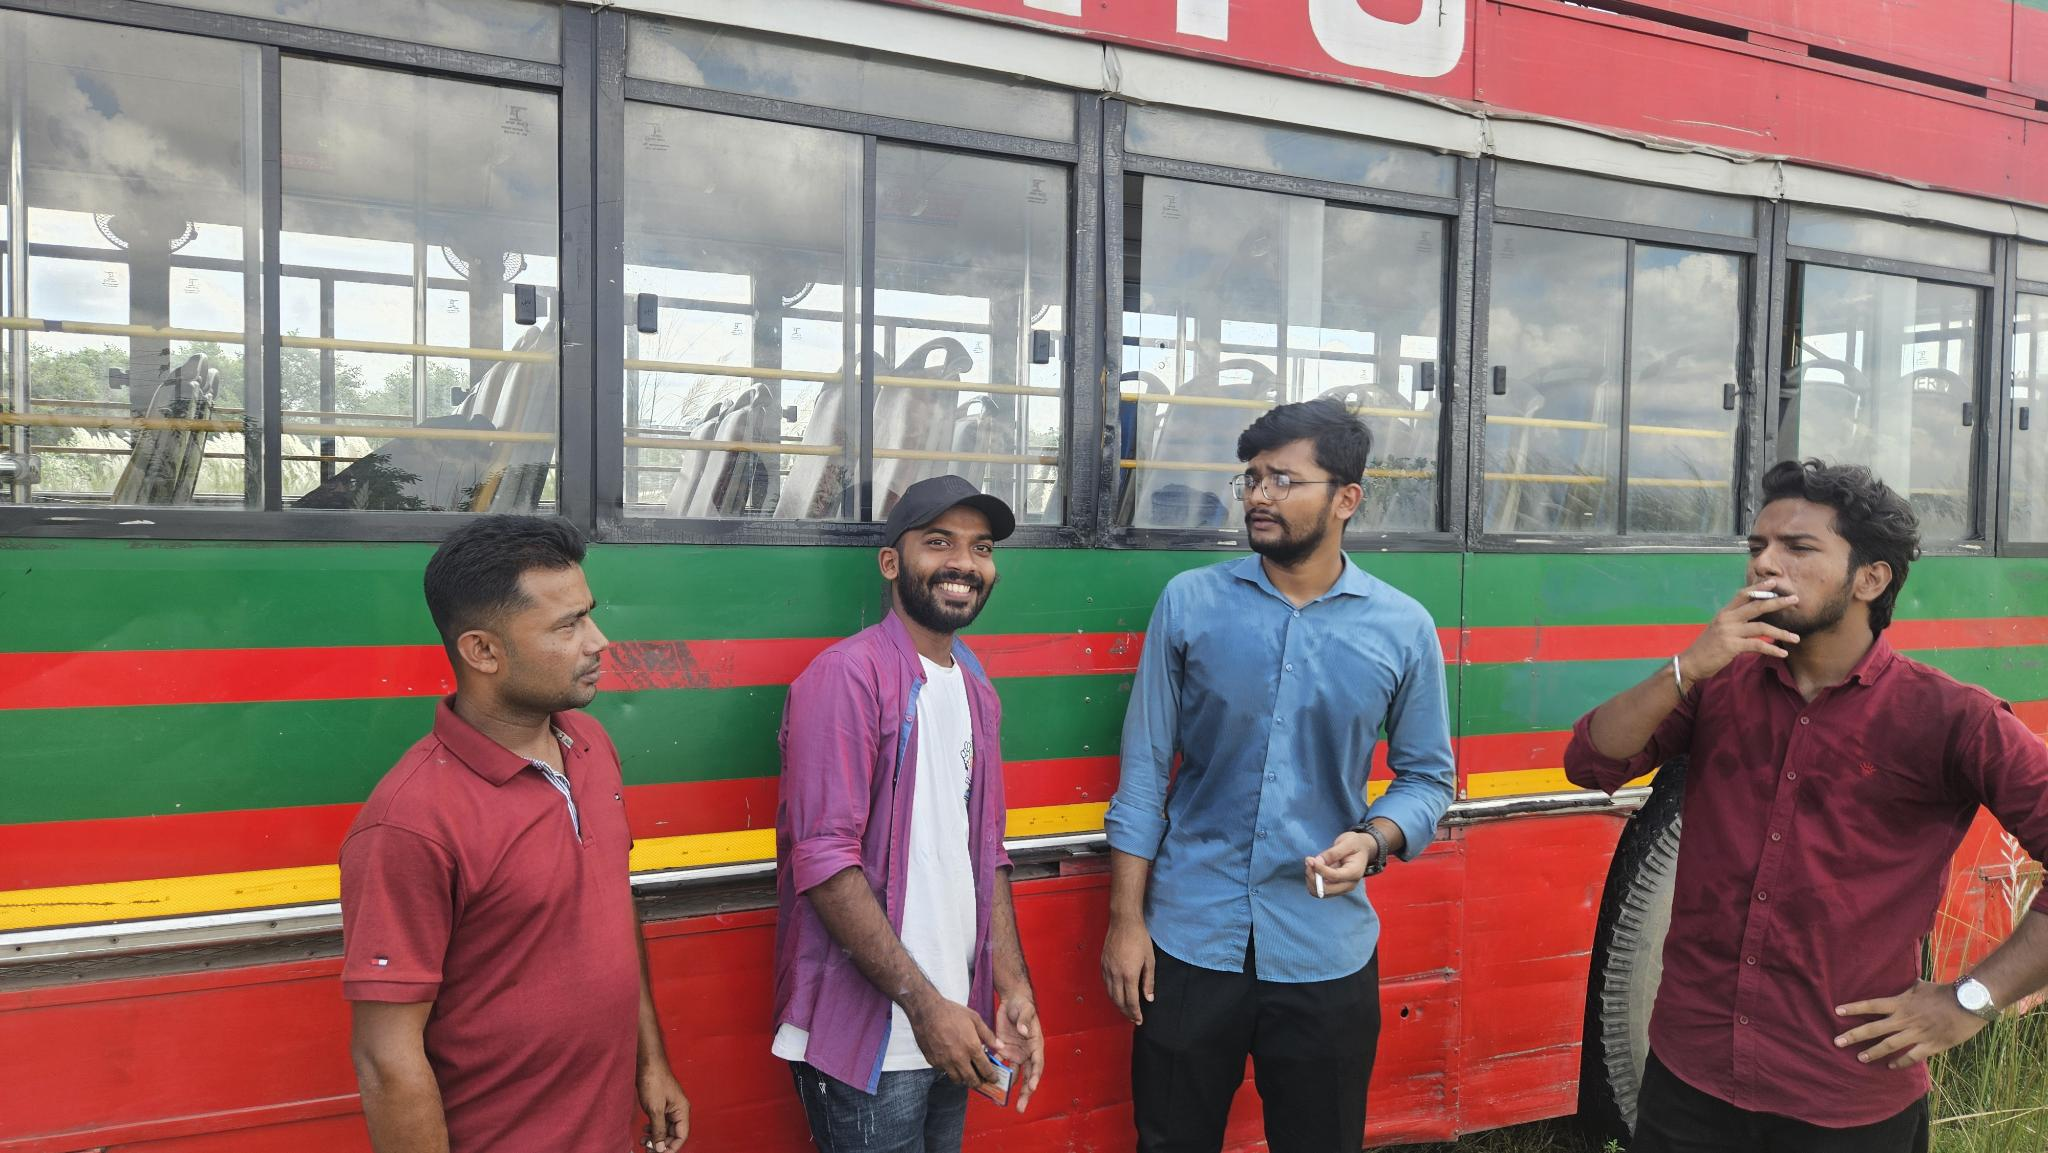cigarette: (1744, 588, 1779, 602), (1314, 870, 1326, 901)
nonSmoker: (340, 513, 692, 1153), (769, 474, 1049, 1153)
smoker: (1560, 460, 2048, 1153), (1107, 397, 1457, 1153)
